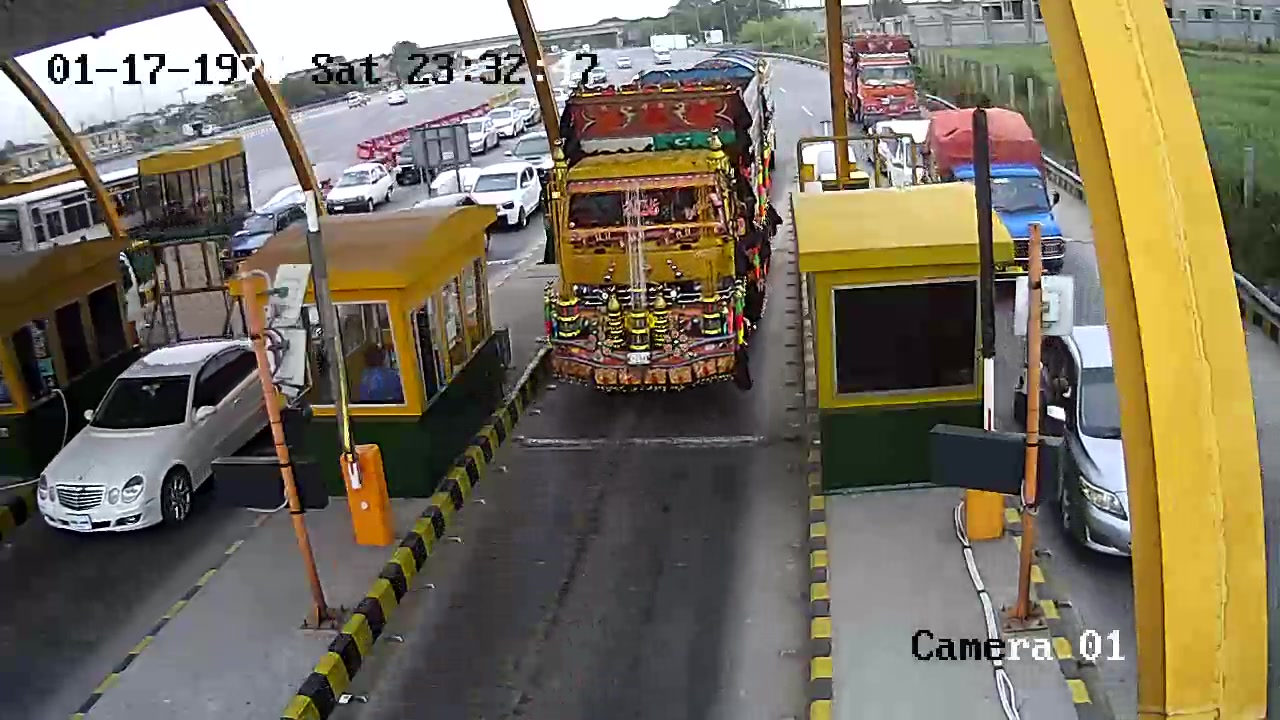F5: (542, 51, 793, 410)
